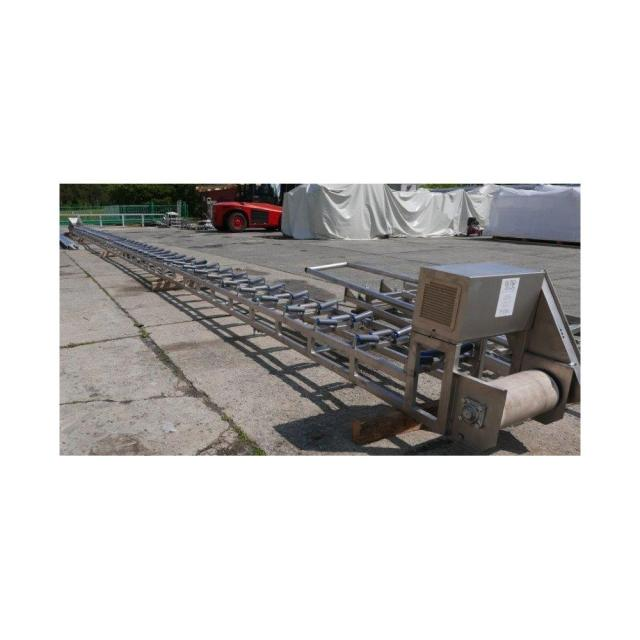conveyor: (77, 212, 579, 434)
